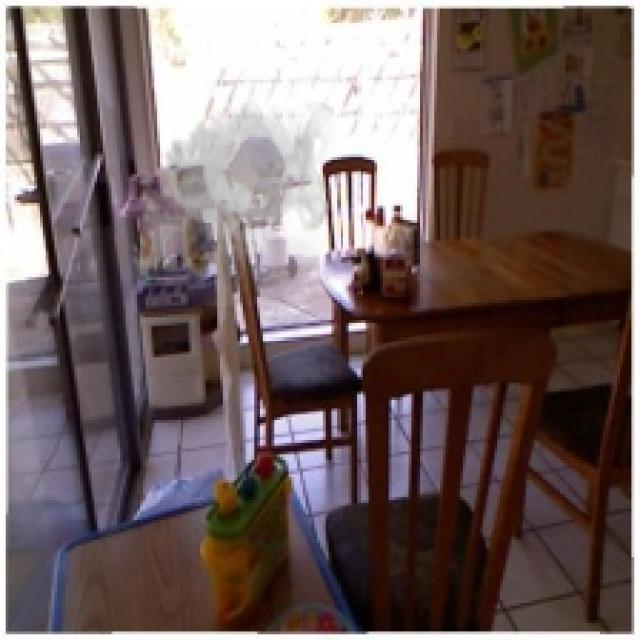Smoke: (126, 97, 334, 306)
